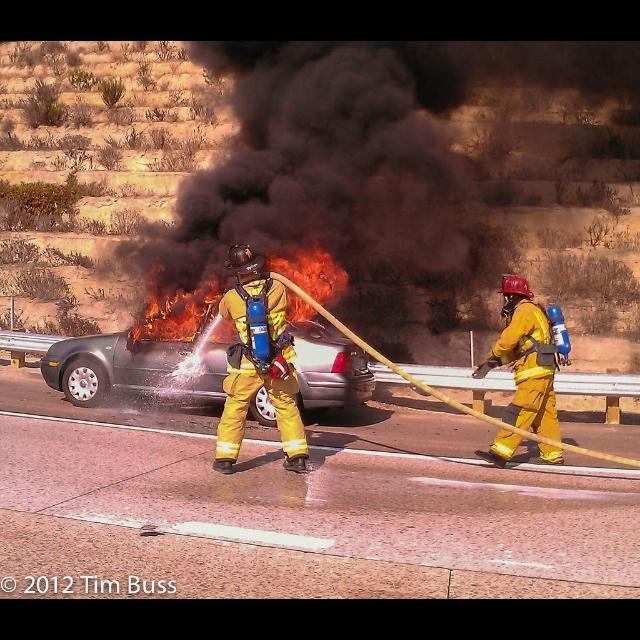Fire: (124, 262, 240, 344), (268, 243, 348, 323)
Smoke: (95, 41, 640, 346)
